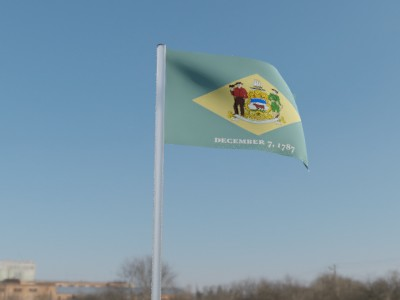Delaware flag: (165, 50, 321, 171)
